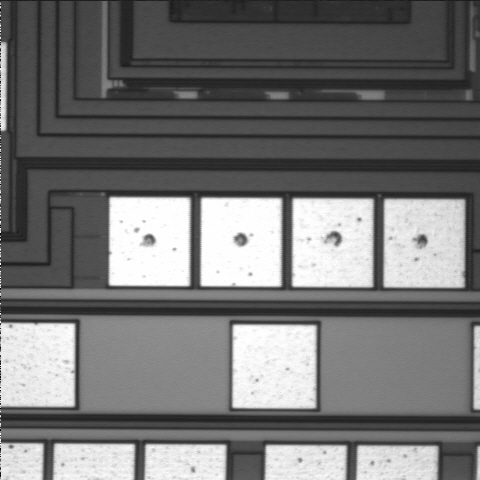pad: (109, 197, 190, 286), (201, 198, 282, 287), (292, 198, 373, 287), (384, 199, 464, 288), (232, 325, 316, 408)
